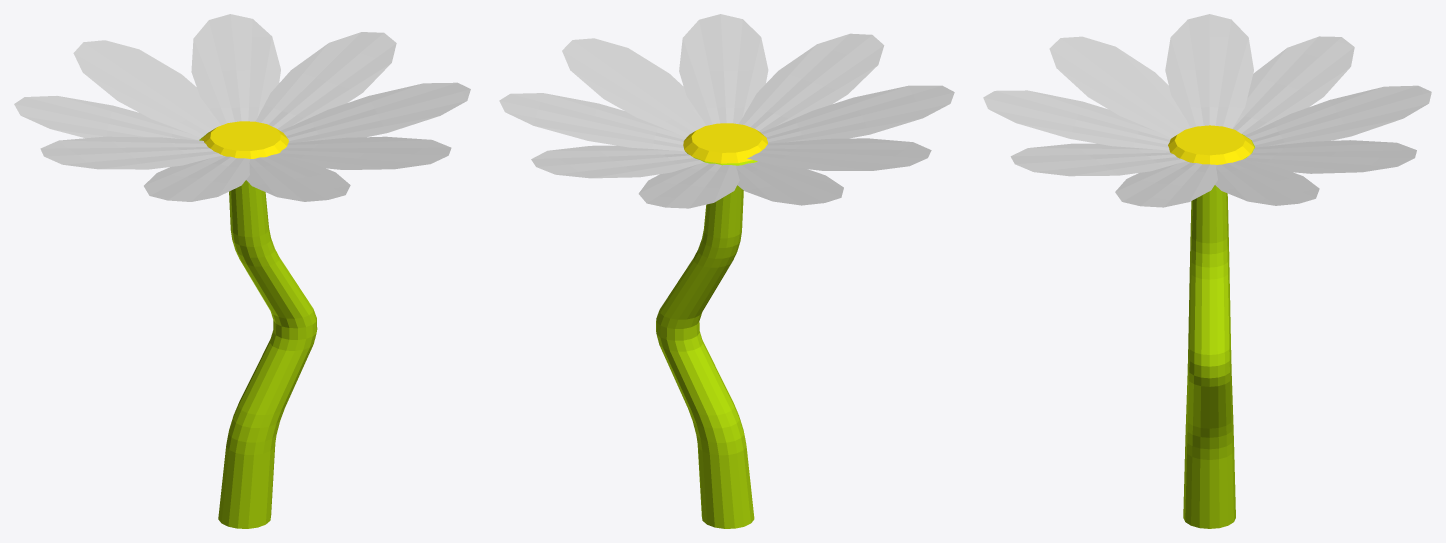
Rendered from FlowerWhite.fbx.
The picture shows the model from 3 angles, left to right: view 1: azimuth 30°, elevation 25°; view 2: azimuth 150°, elevation 25°; view 3: azimuth 270°, elevation 25°; orthographic projection.
Parts seen in each view (by area): view 1: FlowerWhite; view 2: FlowerWhite; view 3: FlowerWhite.
Boxes of the visible parts, x1,y1,x2,y2 form: FlowerWhite: (14,14,470,528); FlowerWhite: (499,14,954,528); FlowerWhite: (983,14,1431,528).
Size of the model in its own units: 5 by 5 by 5.
